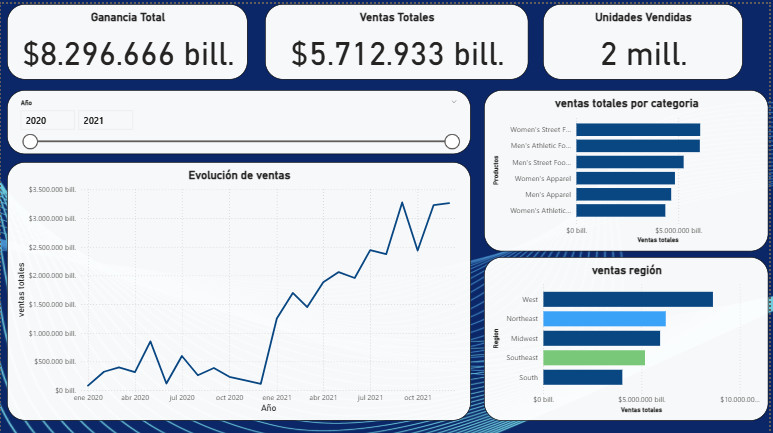

This screenshot's page, from the dashboard's own definition file:
{"tool":"powerbi","page":{"name":"Página 1","canvas":[1280,720],"ordinal":0},"visuals":[{"type":"card","title":"Ganancia Total","fields":{"Values":["adidas_ventas_tabla_plana.Ganancia Total"]},"box":[10,0,401.4,125.7],"z":0},{"type":"card","title":"Unidades Vendidas","fields":{"Values":["adidas_ventas_tabla_plana.Unidades Vendidas"]},"box":[902.9,0,332.9,125.7],"z":1000},{"type":"card","title":"Ventas Totales","fields":{"Values":["adidas_ventas_tabla_plana.Ventas Totales (abs)"]},"box":[440,0,438.6,125.7],"z":2000},{"type":"lineChart","title":"Evolución de ventas","fields":{"Category":["adidas_ventas_tabla_plana.Fecha_facturacion.Variación.Jerarquía de fechas.Año","adidas_ventas_tabla_plana.Fecha_facturacion.Variación.Jerarquía de fechas.Mes"],"Y":["adidas_ventas_tabla_plana.Ventas Totales (abs)"]},"box":[10,262.9,772.9,431.4],"z":4000},{"type":"barChart","title":"ventas totales por categoria","fields":{"Category":["adidas_ventas_tabla_plana.Cat_Producto"],"Y":["adidas_ventas_tabla_plana.Ventas Totales (abs)"]},"box":[805.7,142.9,474.3,268.6],"z":5000},{"type":"barChart","title":"ventas región","fields":{"Category":["adidas_ventas_tabla_plana.Region"],"Y":["adidas_ventas_tabla_plana.Ventas Totales (abs)"]},"box":[805.7,421.4,474.3,272.9],"z":6000},{"type":"slicer","fields":{"Values":["adidas_ventas_tabla_plana.Año"]},"box":[10,142.9,772.9,107.1],"z":7000}]}

Visuals, with their boxes in screenshot pixels (x1, y1, x2, y2), scaled from the page's 1280x720 canvas onto the 773x433 screenshot:
"Ganancia Total" card: <bbox>6, 0, 248, 76</bbox>
"Unidades Vendidas" card: <bbox>545, 0, 746, 76</bbox>
"Ventas Totales" card: <bbox>266, 0, 531, 76</bbox>
"Evolución de ventas" lineChart: <bbox>6, 158, 473, 418</bbox>
"ventas totales por categoria" barChart: <bbox>487, 86, 772, 247</bbox>
"ventas región" barChart: <bbox>487, 253, 772, 418</bbox>
slicer - adidas_ventas_tabla_plana.Año: <bbox>6, 86, 473, 150</bbox>
